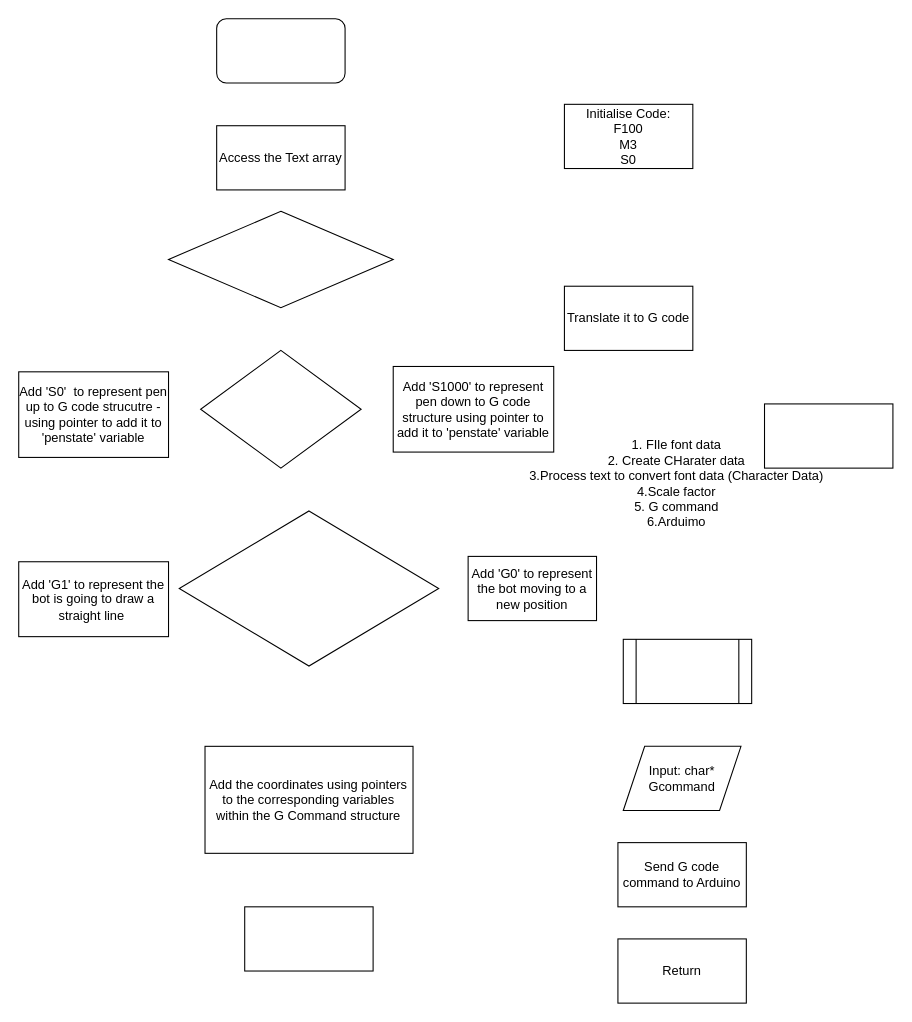
Image size: 912x1022. Some labels were removed from this diagram. The centre of each missing label's shape, as x and y in pixels:
"A for loop going through the text array structure size" goes at pixel 280 259.
"GenerateGCode()" goes at pixel 280 50.
"Is the variable X or Y the same as the previous line?" goes at pixel 308 588.
"SendtoArduino()" goes at pixel 687 671.
"Third variable (P) is 1?" goes at pixel 280 408.
